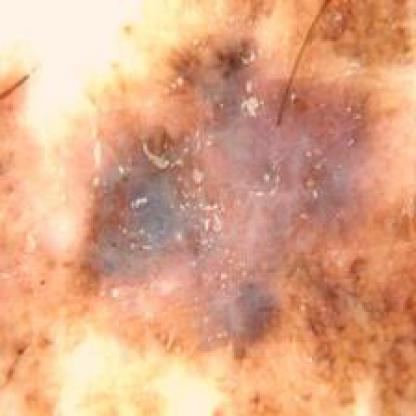malignant: (80, 34, 386, 348)
